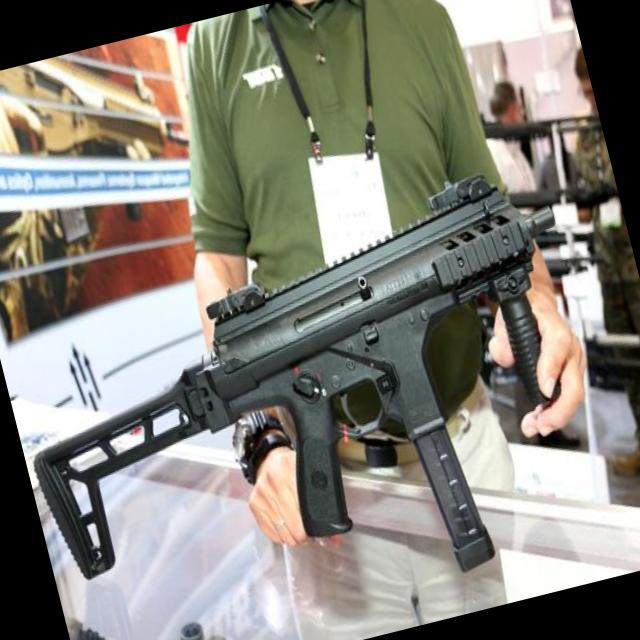Weapon: (0, 156, 636, 640)
